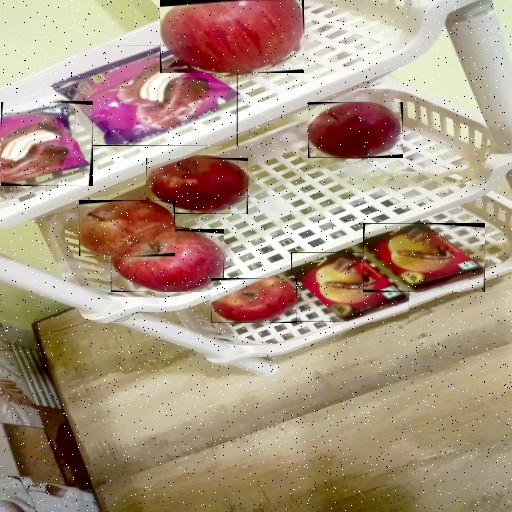Apple: (160, 0, 304, 73), (111, 229, 224, 292), (146, 158, 248, 214), (79, 200, 175, 256), (308, 102, 403, 158), (211, 278, 297, 323)
Choco Fills: (363, 223, 485, 292), (291, 252, 409, 322)
Choco Pie: (53, 45, 238, 146), (1, 102, 93, 186)
